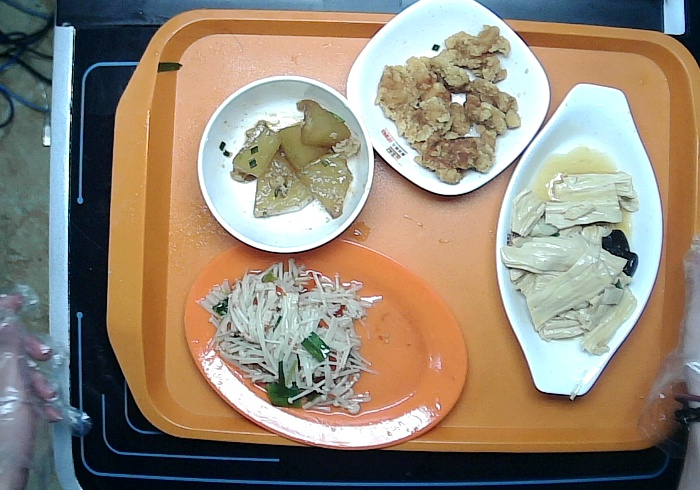NLDX-Bai_Se_Xiao_Fang_Die: (346, 1, 551, 197)
NLDX-Fan_Wan: (198, 75, 373, 254)
NLDX-Ju_Se_Pan: (183, 239, 467, 449)
NLDX-Yu_Pan: (494, 83, 663, 398)
